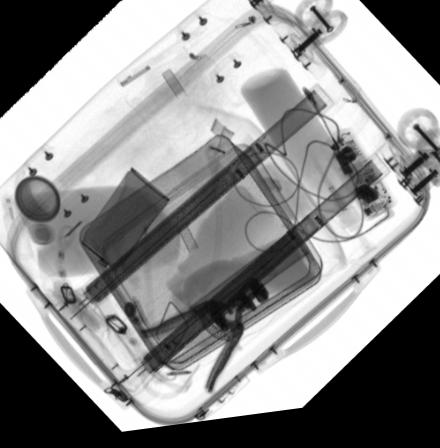Pliers: (137, 282, 268, 400)
